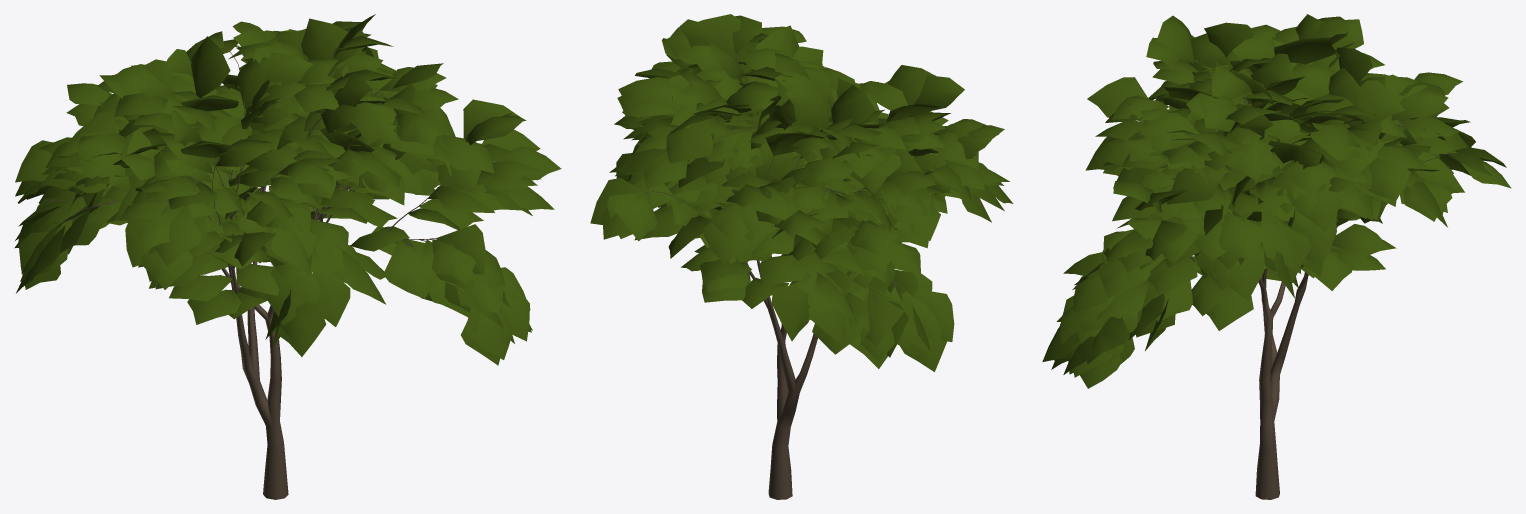
The model's file is Tree.fbx.
The picture shows the model from 3 angles, left to right: view 1: azimuth 30°, elevation 25°; view 2: azimuth 150°, elevation 25°; view 3: azimuth 270°, elevation 25°; orthographic projection. The views are drawn at different scales.
Visible parts, largest first — view 1: Tree; view 2: Tree; view 3: Tree.
Part boxes in pixels (left/top/right/bottom): Tree: left=14, top=14, right=561, bottom=499; Tree: left=590, top=14, right=1013, bottom=499; Tree: left=1042, top=14, right=1511, bottom=499.
Bounding box in the file's own units: 363 × 382 × 355.
